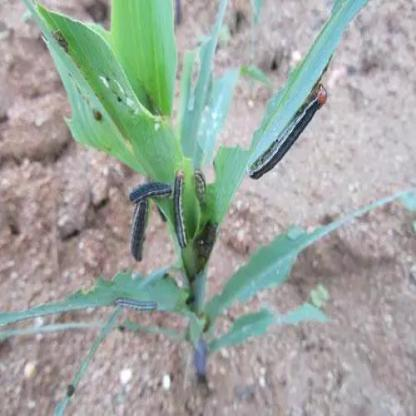armyworm: (246, 83, 328, 180), (169, 170, 193, 249), (128, 178, 173, 204), (131, 197, 147, 264), (113, 294, 160, 312), (195, 164, 209, 204)
